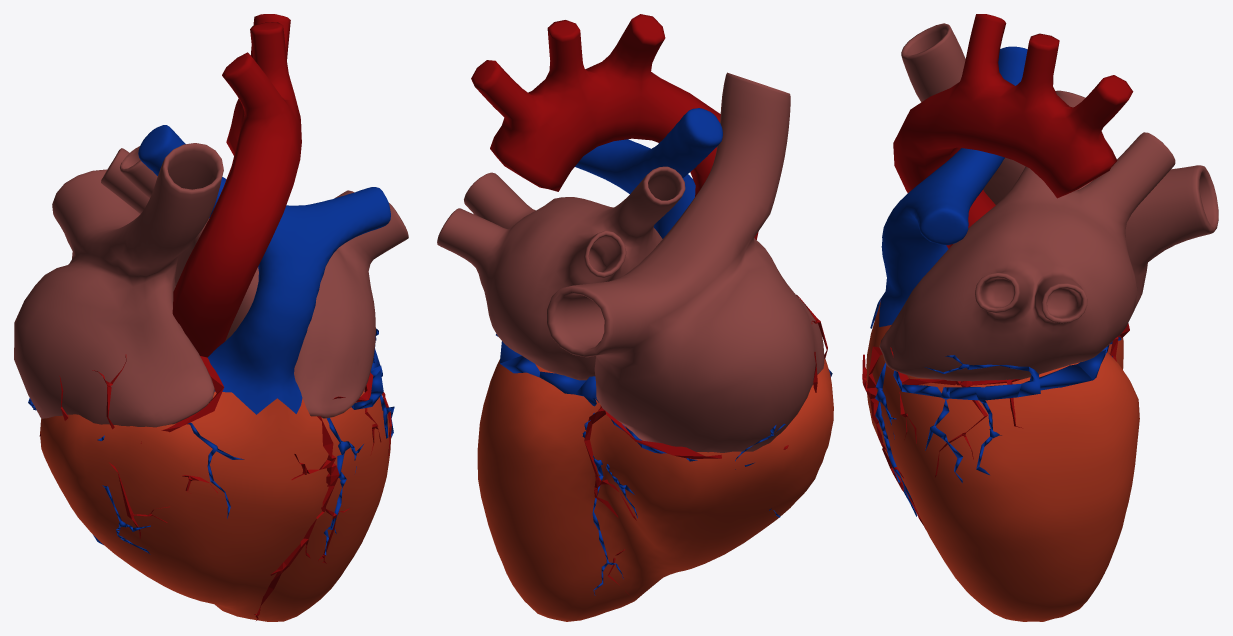
Rendered from Human_heart.glb.
The picture shows the model from 3 angles, left to right: view 1: azimuth 30°, elevation 25°; view 2: azimuth 150°, elevation 25°; view 3: azimuth 270°, elevation 25°; orthographic projection.
Parts seen in each view (by area): view 1: Ventriculos_Cube.001, Auricula_izq_Cube.004, Aorta_Cube.003, Ventriculos_Cube.000, Auricula_der_Cube.002, Arteritas_Cube.005, Venitas_Cube.006; view 2: Auricula_izq_Cube.004, Ventriculos_Cube.001, Auricula_der_Cube.002, Aorta_Cube.003, Ventriculos_Cube.000, Venitas_Cube.006, Arteritas_Cube.005; view 3: Ventriculos_Cube.001, Auricula_der_Cube.002, Aorta_Cube.003, Auricula_izq_Cube.004, Ventriculos_Cube.000, Venitas_Cube.006, Arteritas_Cube.005.
Boxes of the visible parts, bbox=[...] form: Ventriculos_Cube.001: bbox=[40, 389, 391, 621]; Auricula_izq_Cube.004: bbox=[14, 143, 223, 427]; Aorta_Cube.003: bbox=[172, 14, 301, 357]; Ventriculos_Cube.000: bbox=[138, 125, 390, 414]; Auricula_der_Cube.002: bbox=[101, 146, 408, 418]; Arteritas_Cube.005: bbox=[39, 354, 391, 620]; Venitas_Cube.006: bbox=[28, 328, 394, 555]; Auricula_izq_Cube.004: bbox=[547, 72, 824, 452]; Ventriculos_Cube.001: bbox=[477, 359, 833, 621]; Auricula_der_Cube.002: bbox=[437, 166, 685, 380]; Aorta_Cube.003: bbox=[471, 14, 758, 239]; Ventriculos_Cube.000: bbox=[575, 108, 722, 238]; Venitas_Cube.006: bbox=[496, 334, 832, 595]; Arteritas_Cube.005: bbox=[584, 294, 827, 594]; Ventriculos_Cube.001: bbox=[866, 300, 1139, 621]; Auricula_der_Cube.002: bbox=[879, 90, 1175, 381]; Aorta_Cube.003: bbox=[893, 14, 1133, 248]; Auricula_izq_Cube.004: bbox=[901, 23, 1218, 320]; Ventriculos_Cube.000: bbox=[879, 46, 1027, 326]; Venitas_Cube.006: bbox=[870, 293, 1121, 516]; Arteritas_Cube.005: bbox=[862, 323, 1129, 529].
Size of the model in its own units: 63.68 by 100 by 55.45.
